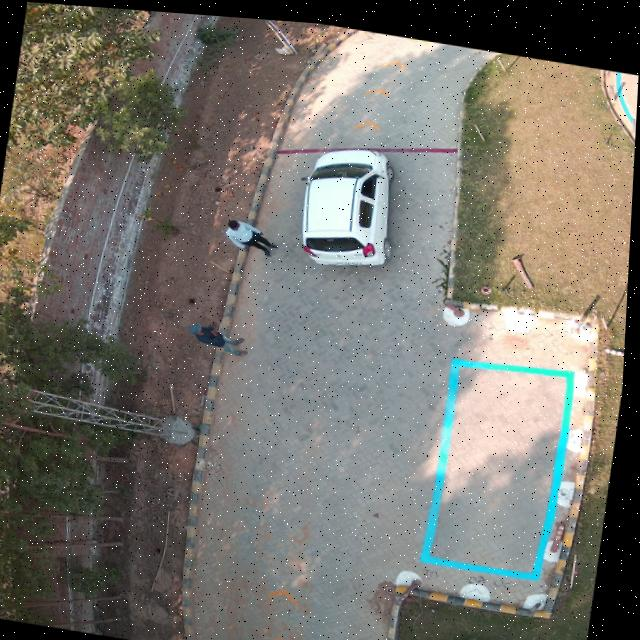car: (304, 143, 395, 259)
